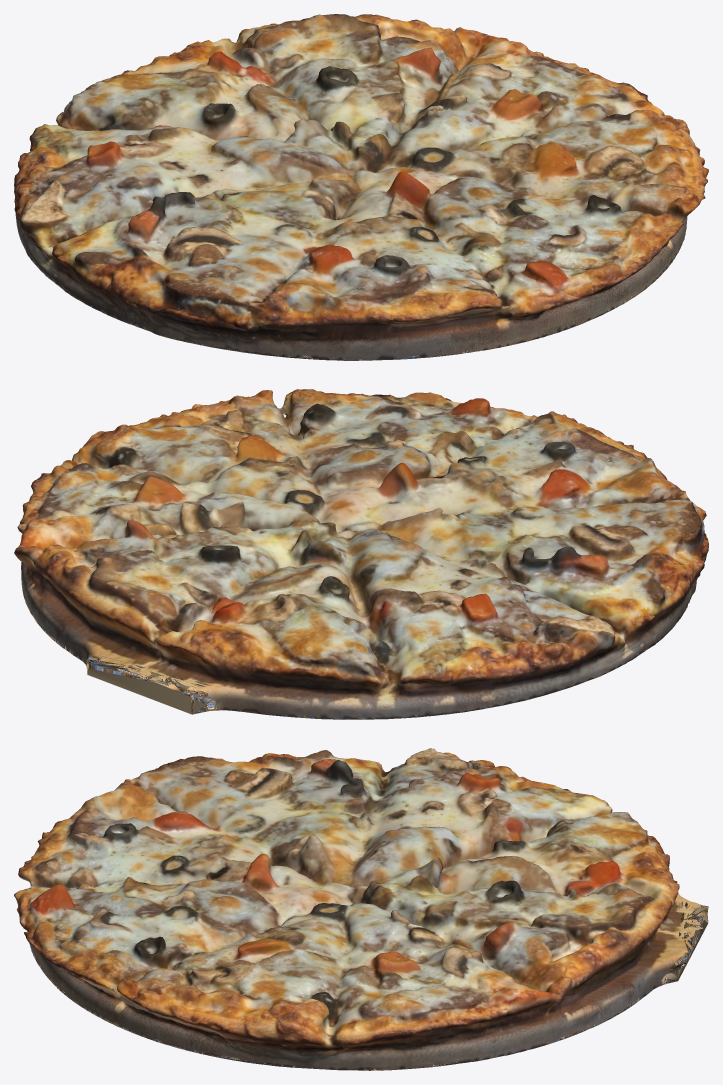
File: pizza.zabooooon.glb
3 renders of one model, top to bottom at view 1: azimuth 30°, elevation 25°; view 2: azimuth 150°, elevation 25°; view 3: azimuth 270°, elevation 25°, orthographic. The views are drawn at different scales.
Visible parts, largest first — view 1: 3DModel; view 2: 3DModel; view 3: 3DModel.
Boxes of the visible parts, bbox=[...] form: 3DModel: bbox=[14, 14, 708, 360]; 3DModel: bbox=[14, 389, 708, 719]; 3DModel: bbox=[14, 748, 708, 1070].
Size of the model in its own units: 0.294 by 0.0388 by 0.3025.
1 material, 1 textured.
